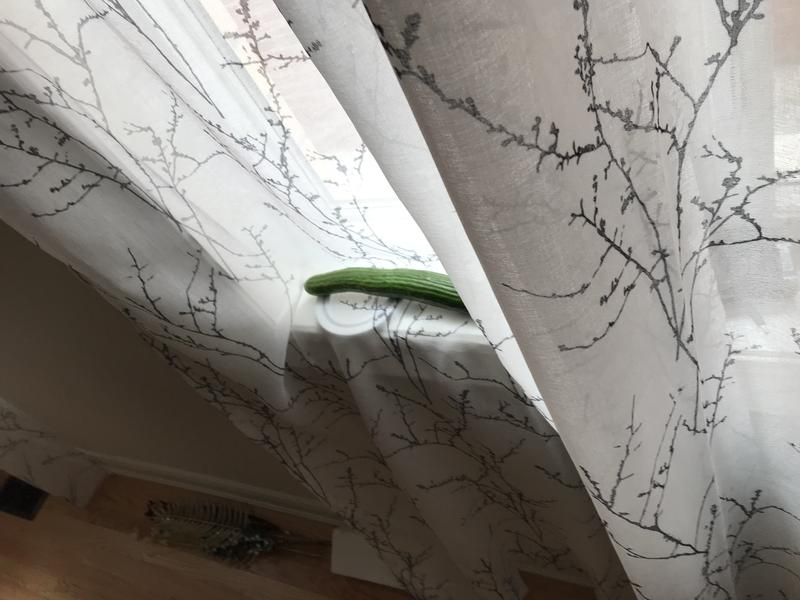cucumber: (298, 256, 508, 332)
